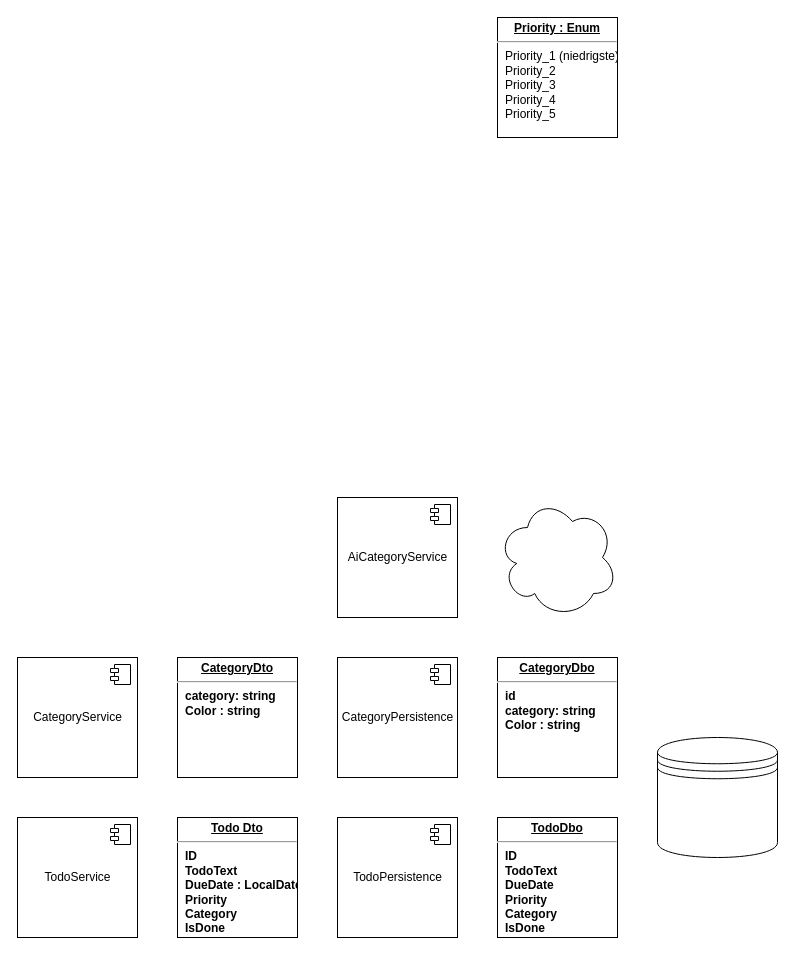
Image size: 795x955. Some labels were removed from this diagram. Here are the shapes that lost their labels. From the top down, the centre of each, then its label:
At (557,557): "ChatGPT API".
At (717,797): "SQL Database".
